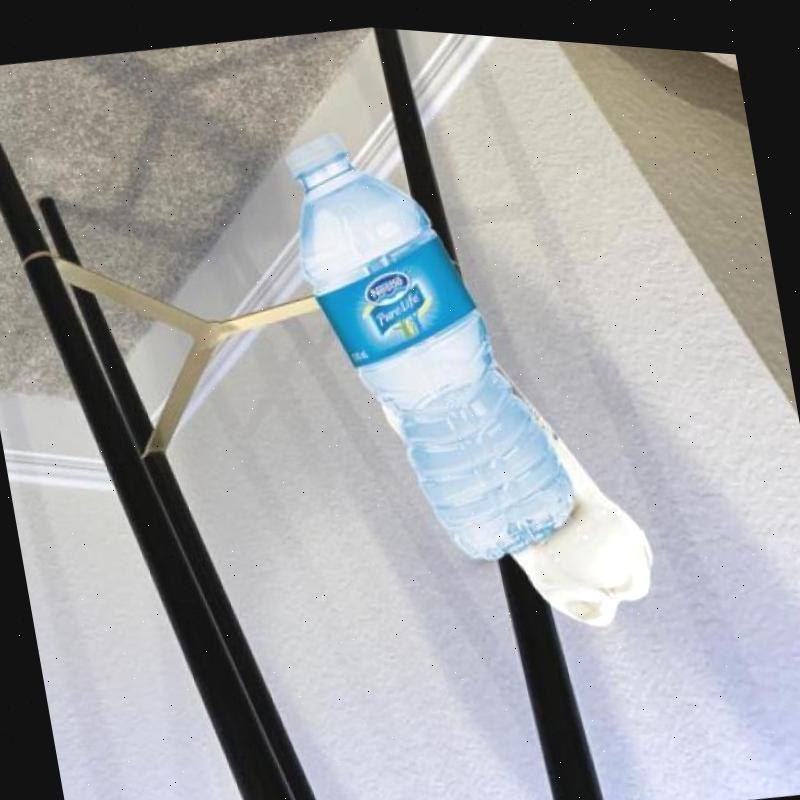botella: (274, 92, 582, 582)
